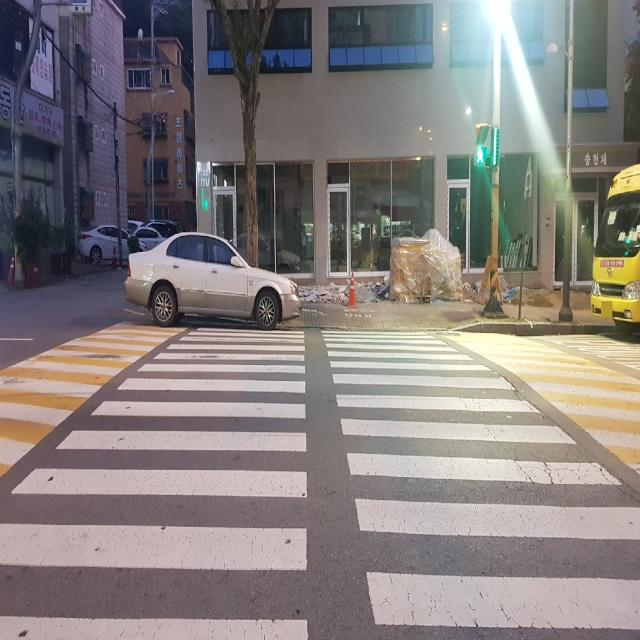초록불: (472, 123, 502, 173)
횡단보도: (0, 328, 640, 639)
